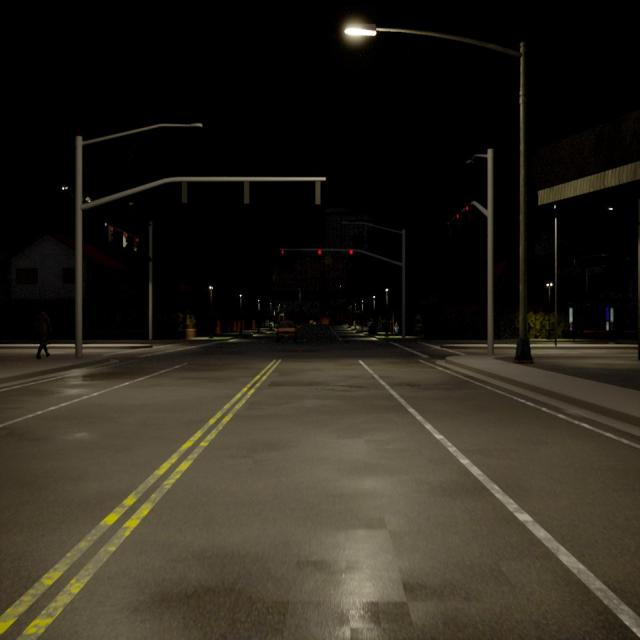Pedestrian: (36, 311, 50, 359)
Vehicle: (277, 320, 296, 342)
traffic_light: (244, 182, 249, 204), (182, 181, 187, 202), (316, 181, 320, 204), (109, 226, 113, 241), (123, 232, 127, 247), (134, 237, 138, 251), (318, 249, 322, 254), (349, 250, 353, 254), (466, 207, 469, 210), (457, 214, 459, 218), (282, 250, 284, 254)
